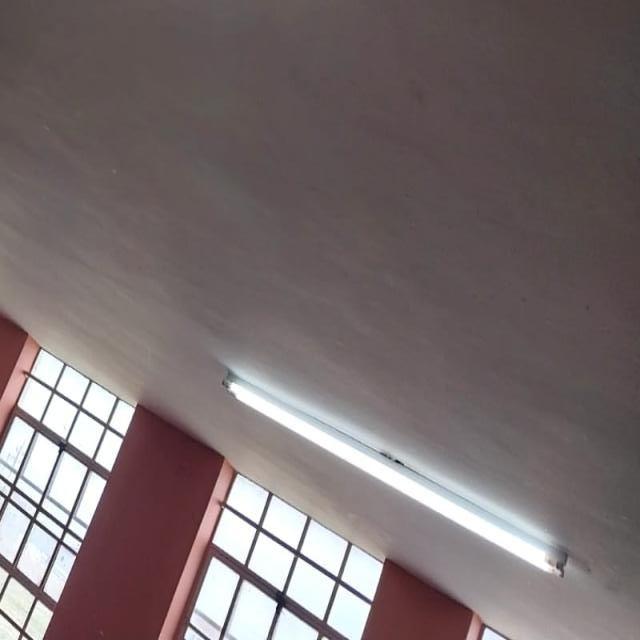fluorescent tube: (204, 358, 584, 590)
